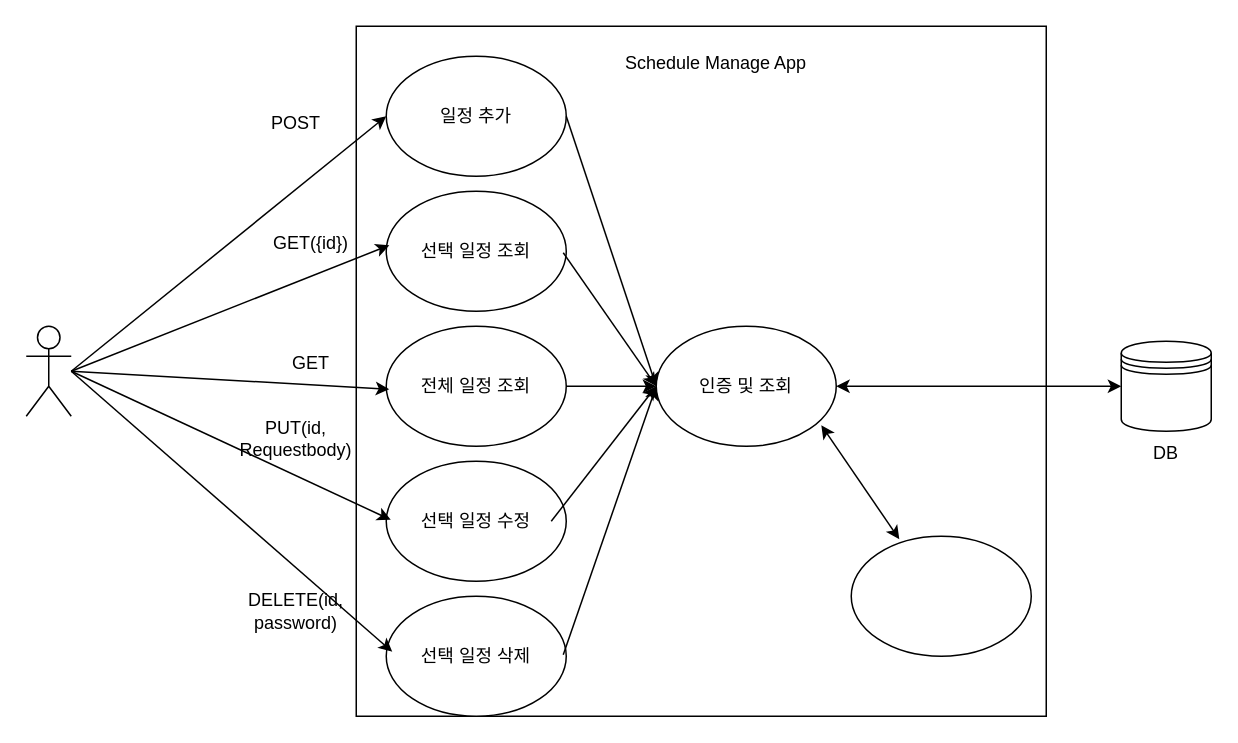
Image size: 1238x743. Some labels were removed from this diagram. The shapes that lost their labels are listed below. From the top down, each one's box as (x1, y1, x2, y2) in pixels, then its label:
(25, 325, 71, 416): Actor
(850, 535, 1031, 656): 인증 실패
